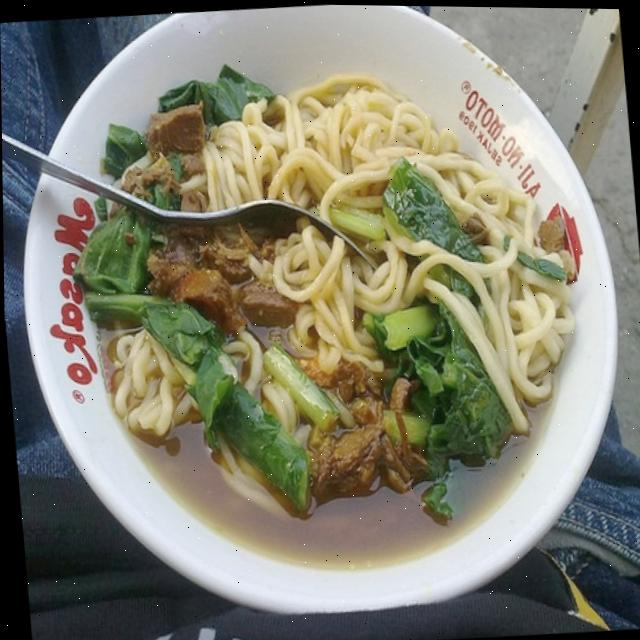面条主食: (18, 0, 623, 588)
